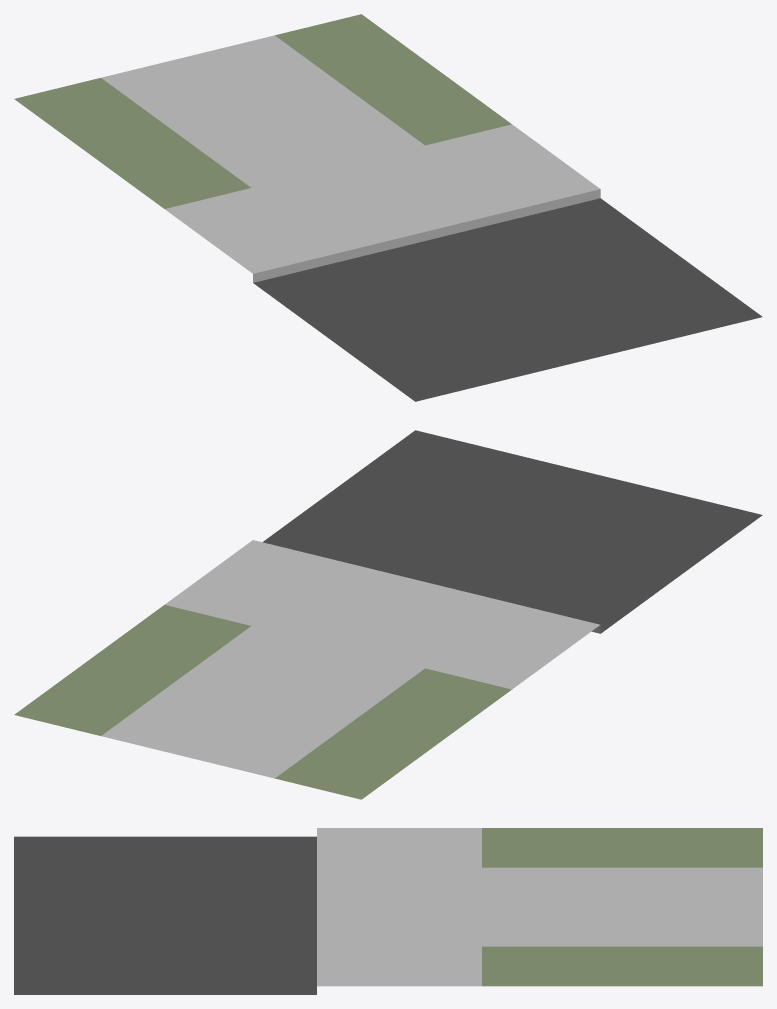
The model's file is GroundRoad_Path.fbx.
3 renders of one model, top to bottom at view 1: azimuth 30°, elevation 25°; view 2: azimuth 150°, elevation 25°; view 3: azimuth 270°, elevation 25°, orthographic. The views are drawn at different scales.
Visible parts, largest first — view 1: GroundRoad; view 2: GroundRoad; view 3: GroundRoad.
Boxes of the visible parts, bbox=[...] form: GroundRoad: bbox=[14, 14, 762, 401]; GroundRoad: bbox=[14, 430, 762, 799]; GroundRoad: bbox=[14, 828, 762, 994].
Size of the model in its own units: 800 by 19.99 by 1600.
